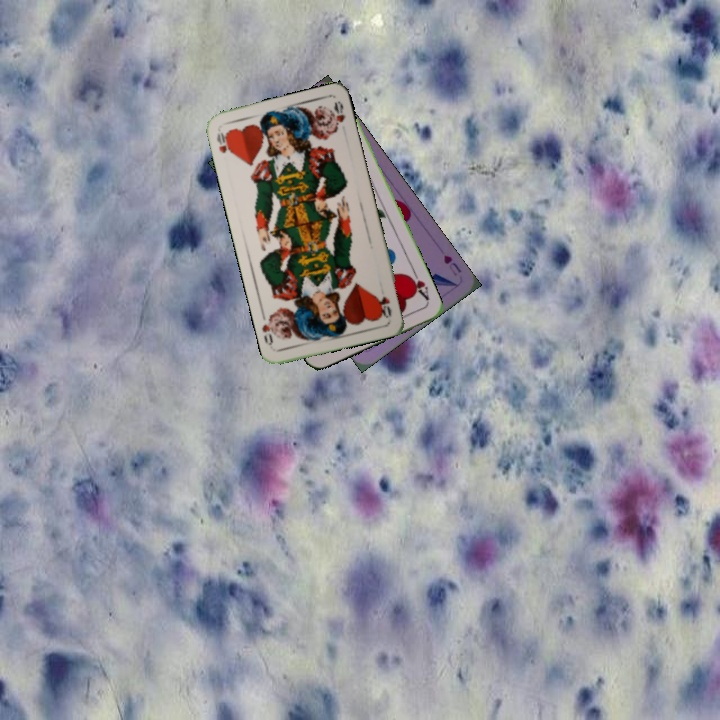HA: (403, 266, 432, 305)
HO: (212, 128, 235, 158), (376, 293, 394, 321)
HU: (439, 251, 464, 279)
